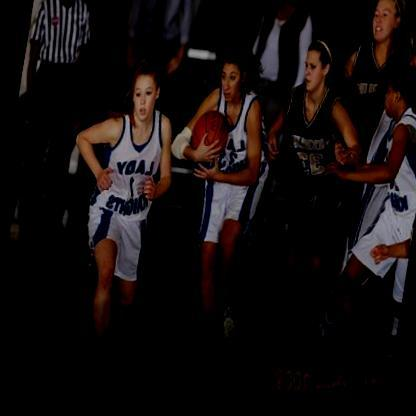basketball: (187, 109, 234, 167)
